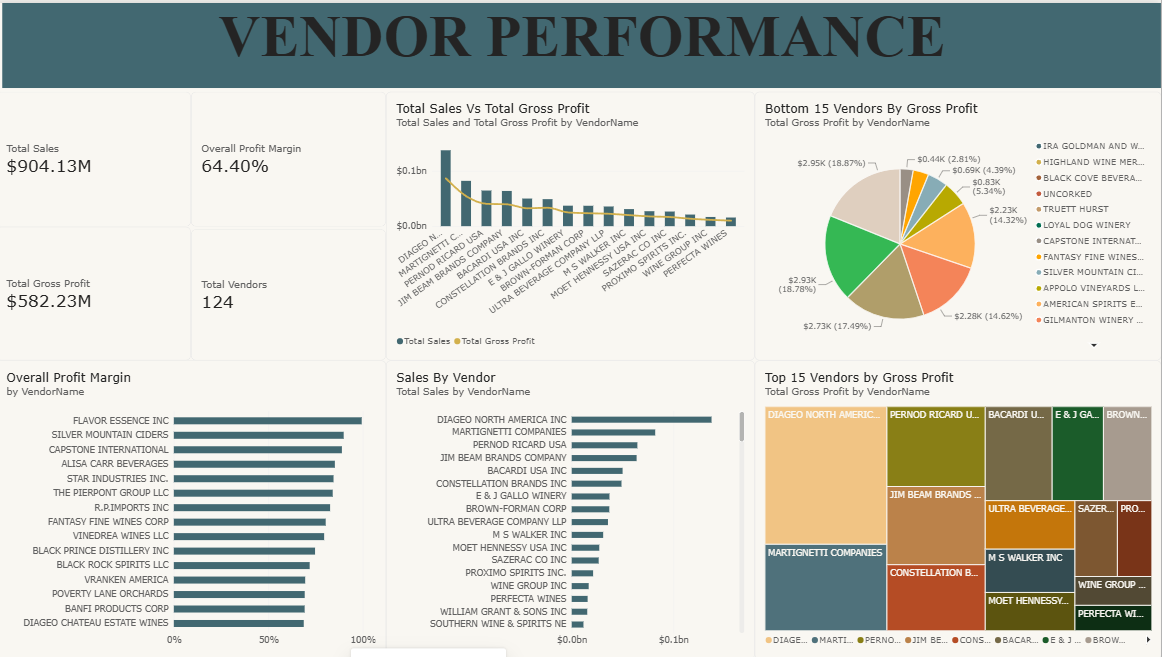

Layout of this report page (visuals, bound fields, positions):
{"tool":"powerbi","page":{"name":"Vendor Performance","canvas":[1920,1080],"ordinal":1},"visuals":[{"type":"textbox","box":[10.9,0,1909.5,139.7],"z":0},{"type":"cardVisual","fields":{"Data":["Vendor_performance.Total Sales"]},"box":[0,146.1,321.1,222.3],"z":1000},{"type":"cardVisual","fields":{"Data":["Vendor_performance.Total Gross Profit"]},"box":[0,368.4,321.1,220.2],"z":2000},{"type":"cardVisual","fields":{"Data":["Vendor_performance.Overall Profit Margin"]},"box":[321.1,146.1,321.1,222.3],"z":3000},{"type":"cardVisual","fields":{"Data":["Vendor_performance.Total Vendors"]},"box":[321.1,372.6,321.1,216.1],"z":4000},{"type":"clusteredBarChart","title":"Sales By Vendor","fields":{"Category":["Vendor_performance.VendorName"],"Y":["Vendor_performance.Total Sales"]},"box":[642.2,588.7,607.2,491.9],"z":5000},{"type":"clusteredBarChart","fields":{"Category":["Vendor_performance.VendorName"],"Y":["Vendor_performance.Overall Profit Margin"]},"box":[0,588.7,642.2,491.9],"z":6000},{"type":"treemap","title":"Top 15 Vendors by Gross Profit","fields":{"Group":["Vendor_performance.VendorName"],"Values":["Vendor_performance.Total Gross Profit"]},"box":[1249.4,588.7,671,491.9],"z":7000},{"type":"lineClusteredColumnComboChart","title":"Total Sales Vs Total Gross Profit","fields":{"Category":["Vendor_performance.VendorName"],"Y":["Vendor_performance.Total Sales"],"Y2":["Vendor_performance.Total Gross Profit"]},"box":[642.2,146.1,607.2,442.5],"z":8000},{"type":"pieChart","title":"Bottom 15 Vendors By Gross Profit","fields":{"Category":["Vendor_performance.VendorName"],"Y":["Vendor_performance.Total Gross Profit"]},"box":[1249.4,146.1,671,442.5],"z":9000}]}

Visuals, with their boxes in screenshot pixels (x1, y1, x2, y2), scaled from the page's 1920x1080 canvas onto the 1162x657 screenshot:
textbox: 7:0:1161:85
cardVisual - Vendor_performance.Total Sales: 0:89:194:224
cardVisual - Vendor_performance.Total Gross Profit: 0:224:194:358
cardVisual - Vendor_performance.Overall Profit Margin: 194:89:389:224
cardVisual - Vendor_performance.Total Vendors: 194:227:389:358
"Sales By Vendor" clusteredBarChart: 389:358:756:656
clusteredBarChart - Vendor_performance.VendorName x Vendor_performance.Overall Profit Margin: 0:358:389:656
"Top 15 Vendors by Gross Profit" treemap: 756:358:1161:656
"Total Sales Vs Total Gross Profit" lineClusteredColumnComboChart: 389:89:756:358
"Bottom 15 Vendors By Gross Profit" pieChart: 756:89:1161:358
